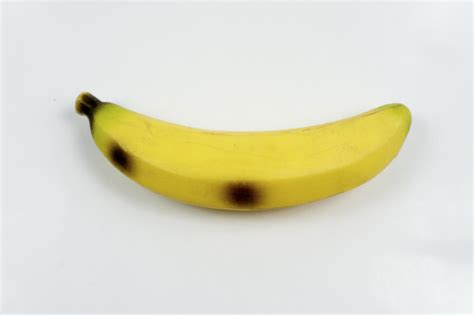???: (75, 91, 413, 213)
